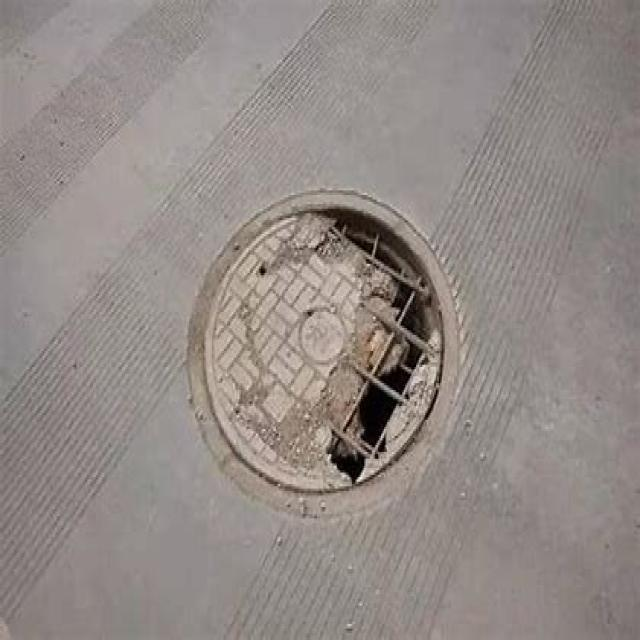manhole: (184, 189, 464, 523)
